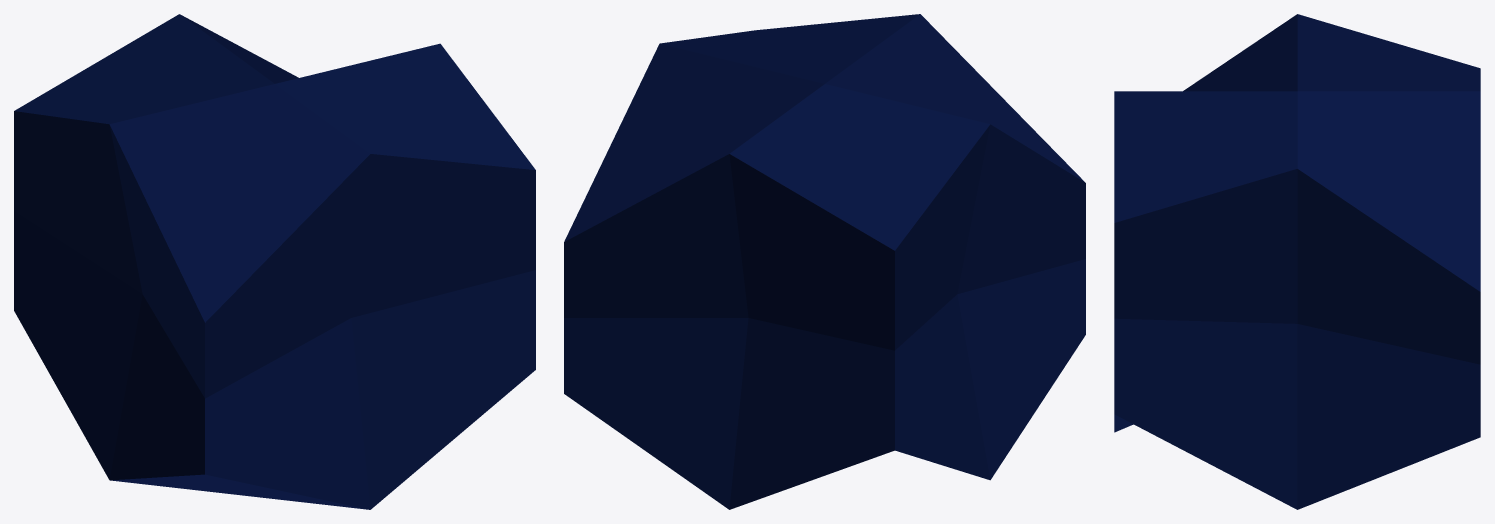
The model's file is skin_2_1_model.fbx.
3 views of the same model, side by side, from view 1: azimuth 30°, elevation 25°; view 2: azimuth 150°, elevation 25°; view 3: azimuth 270°, elevation 25° (orthographic). The views are drawn at different scales.
Parts seen in each view (by area): view 1: Cube; view 2: Cube; view 3: Cube.
Part boxes in pixels (<box>): Cube: <box>14,14,535,509</box>; Cube: <box>564,14,1085,509</box>; Cube: <box>1114,14,1480,509</box>.
Size of the model in its own units: 200 by 206 by 200.
